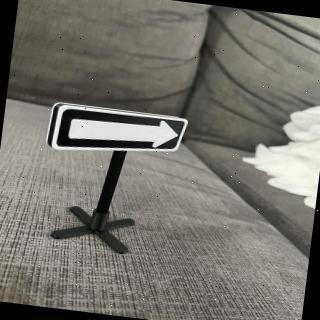sign_oneway_right: (51, 102, 191, 168)
